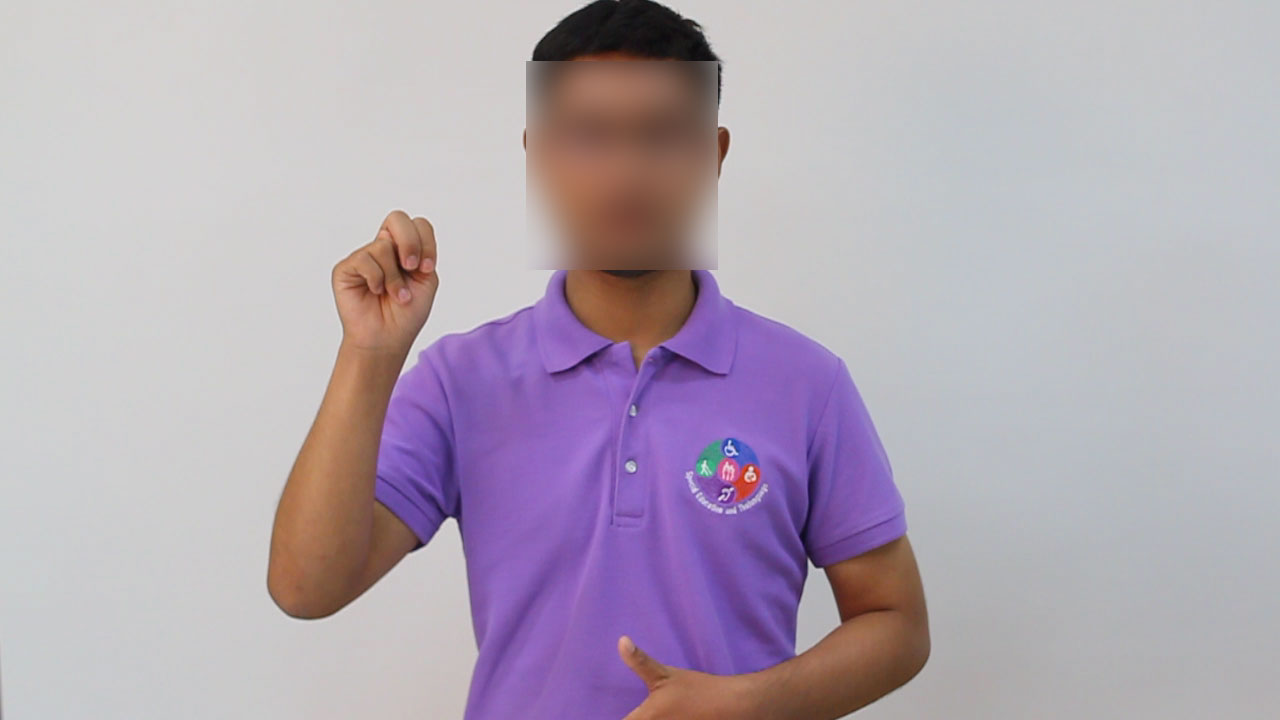nor: (319, 203, 451, 352)
